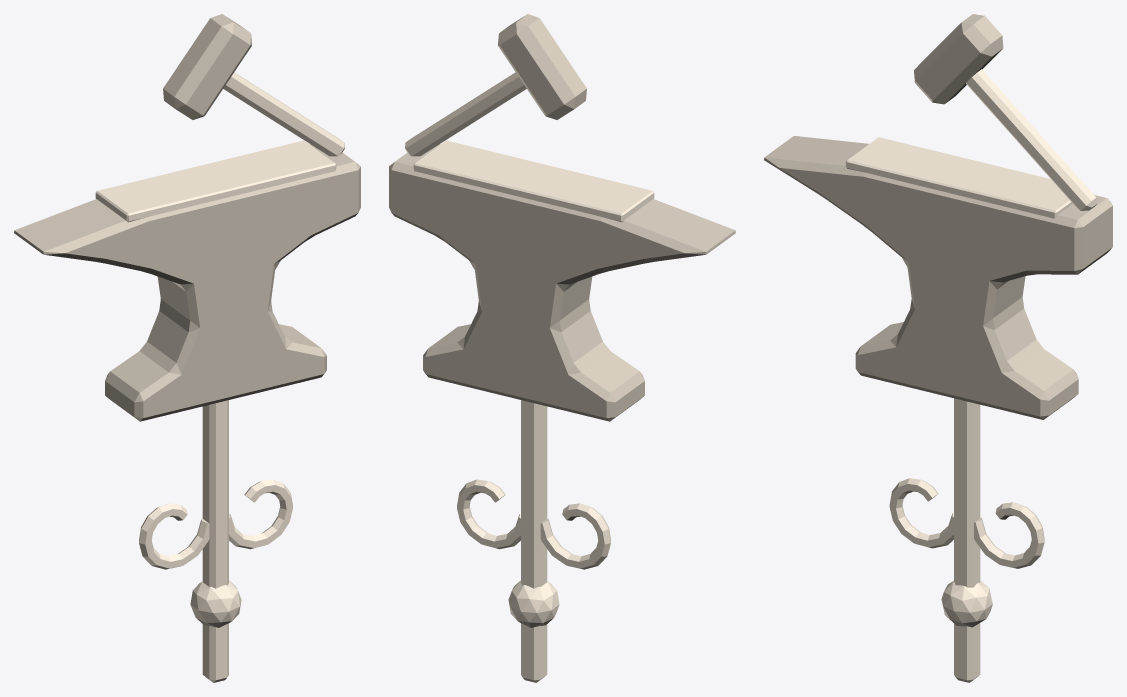
File: SM_VK_Emblem_Ridge_Anvil.fbx
The picture shows the model from 3 angles, left to right: view 1: azimuth 30°, elevation 25°; view 2: azimuth 150°, elevation 25°; view 3: azimuth 330°, elevation 25°; orthographic projection.
Visible parts, largest first — view 1: SM_VK_Emblem_Ridge_Anvil.001; view 2: SM_VK_Emblem_Ridge_Anvil.001; view 3: SM_VK_Emblem_Ridge_Anvil.001.
Part boxes in pixels (<box>): SM_VK_Emblem_Ridge_Anvil.001: <box>14,14,360,682</box>; SM_VK_Emblem_Ridge_Anvil.001: <box>389,14,735,682</box>; SM_VK_Emblem_Ridge_Anvil.001: <box>764,14,1112,682</box>.
Bounding box in the file's own units: 1.12 × 2.22 × 0.22.
